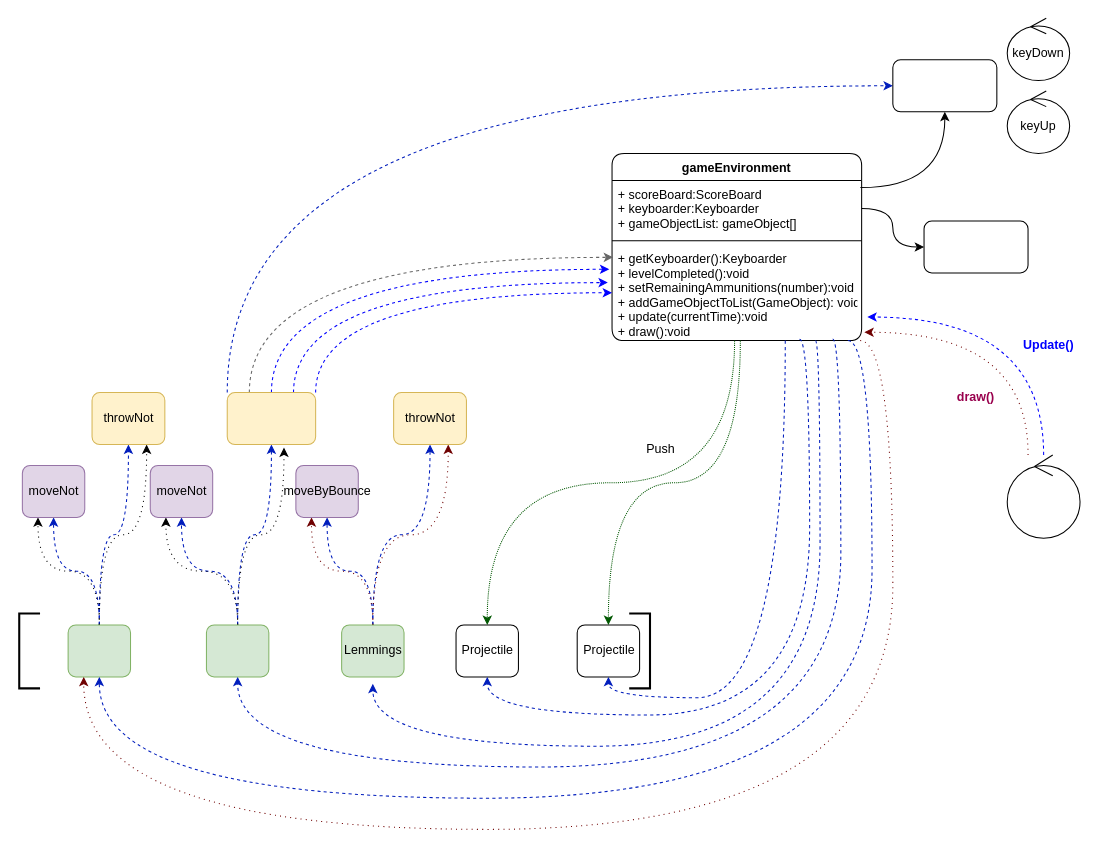
Image size: 1098x848. Some labels were removed from this diagram. The centre of each missing label's shape, as x and y in pixels:
"Grizzly" belongs at point (237, 650).
"keyboarder" belongs at point (944, 85).
"Landscape" belongs at point (99, 650).
"Request Animation Frame" belongs at point (1043, 496).
"scoreboard" belongs at point (975, 246).
"throwBalistics" belongs at point (271, 418).
